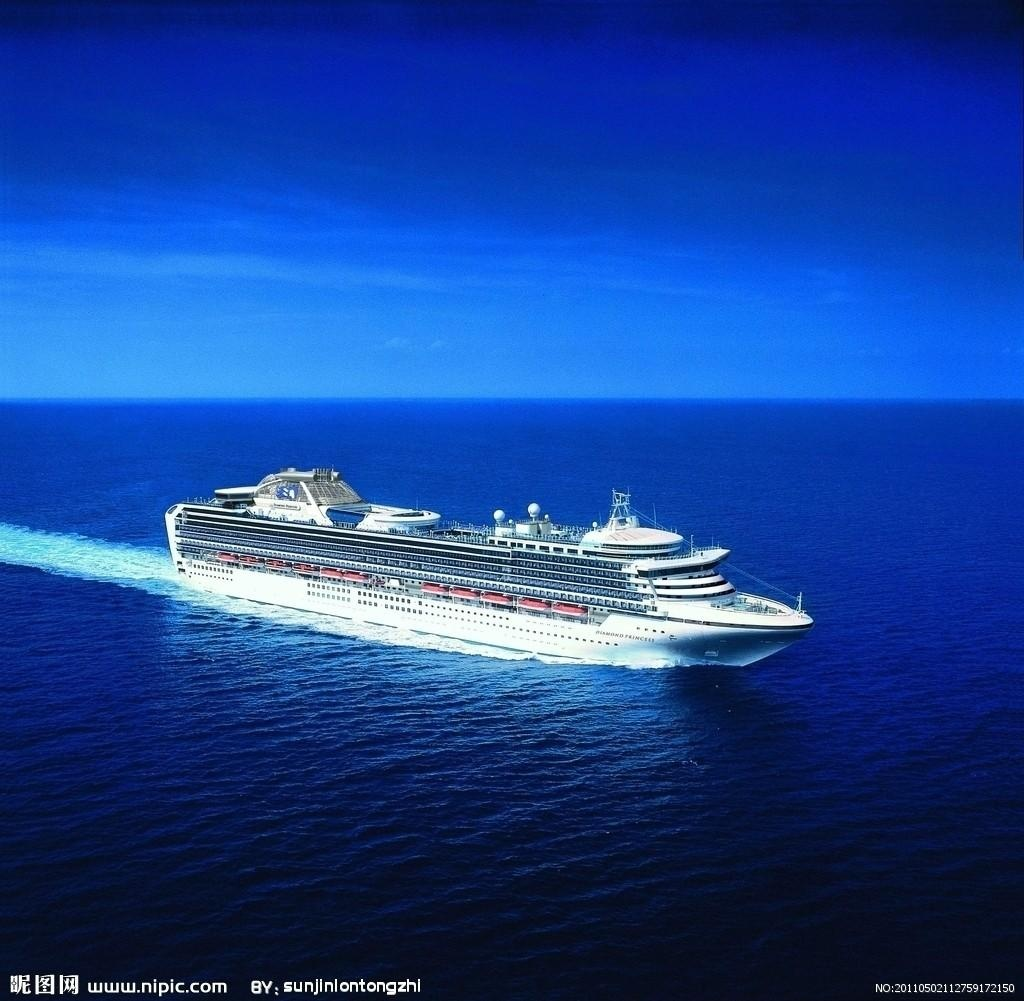youlun: (155, 458, 815, 670)
